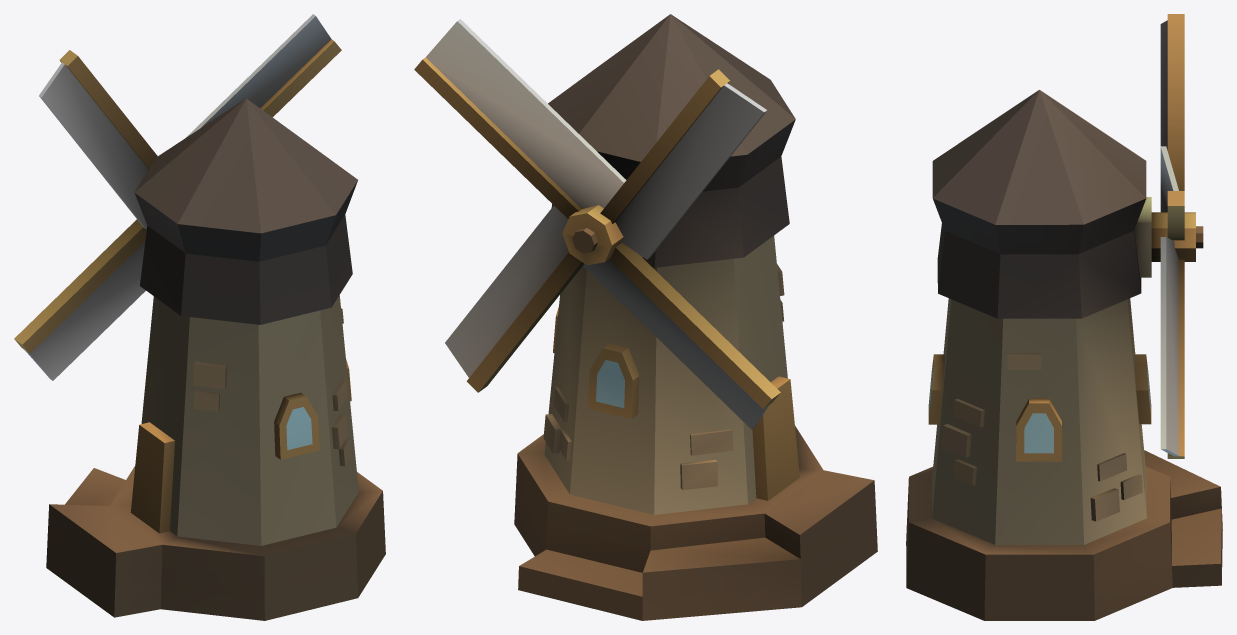
File: windmill.fbx
3 views of the same model, side by side, from view 1: azimuth 30°, elevation 25°; view 2: azimuth 150°, elevation 25°; view 3: azimuth 270°, elevation 25° (orthographic). The views are drawn at different scales.
Parts seen in each view (by area): view 1: windmill; view 2: windmill; view 3: windmill.
Boxes of the visible parts, x1,y1,x2,y2 form: windmill: (14,14,385,620); windmill: (414,14,877,620); windmill: (906,14,1222,620).
Size of the model in its own units: 0.6882 by 1 by 0.5765.
